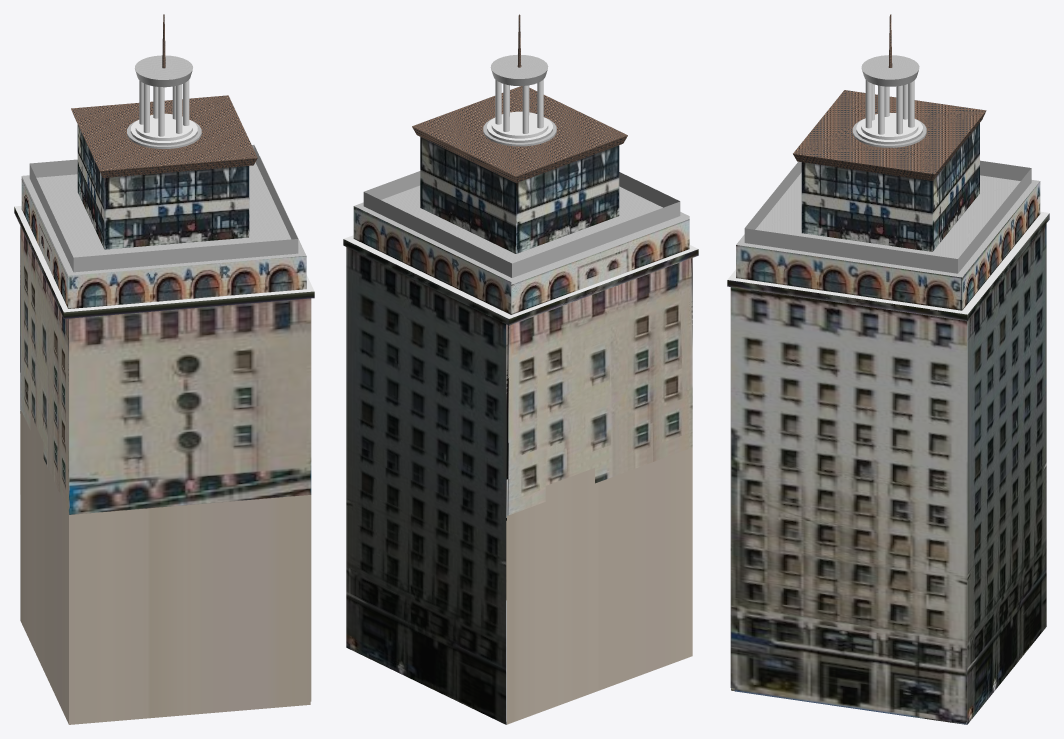
Rendered from Neboticnik.fbx.
The picture shows the model from 3 angles, left to right: view 1: azimuth 30°, elevation 25°; view 2: azimuth 150°, elevation 25°; view 3: azimuth 270°, elevation 25°; orthographic projection.
Visible parts, largest first — view 1: Model; view 2: Model; view 3: Model.
Part boxes in pixels (<box>): Model: <box>14,14,314,724</box>; Model: <box>343,14,698,724</box>; Model: <box>727,14,1049,724</box>.
Bounding box in the file's own units: 31.64 × 69.73 × 31.63.
